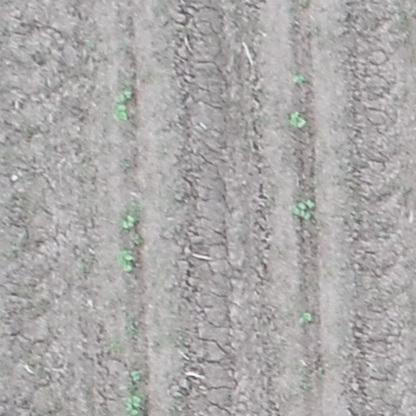vc: (114, 90, 134, 122), (117, 248, 136, 275), (293, 197, 314, 219), (122, 394, 143, 414), (289, 110, 309, 129), (120, 212, 136, 231), (291, 72, 307, 87), (297, 311, 312, 325), (130, 369, 140, 382)
